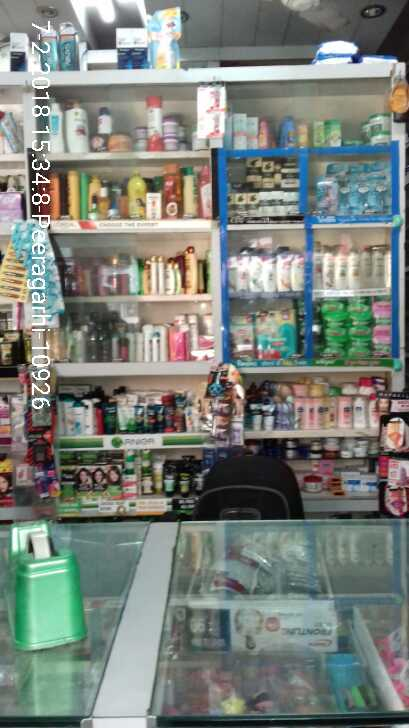venus: (12, 221, 57, 317), (367, 161, 389, 217), (327, 163, 349, 217), (349, 163, 367, 217), (310, 181, 327, 217)
